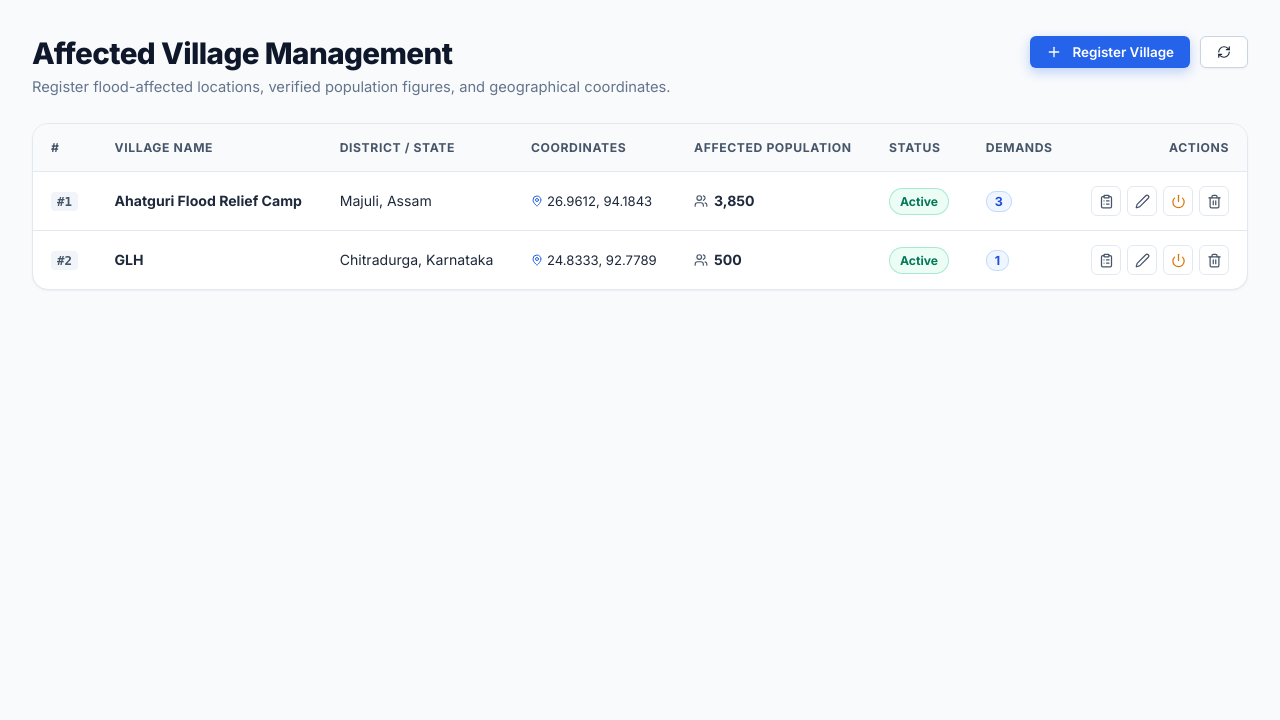
Test: Warehouses and Villages Management › VillagesPage Component › opens Register Village modal when clicking Register Village button
The width and height of the screenshot is (1280, 720).
Expected: the text "Ahatguri Flood Relief Camp" is shown, x1=114 y1=192 x2=302 y2=209
Click the button "Register Village": (1110, 52) x1=1030 y1=36 x2=1190 y2=68
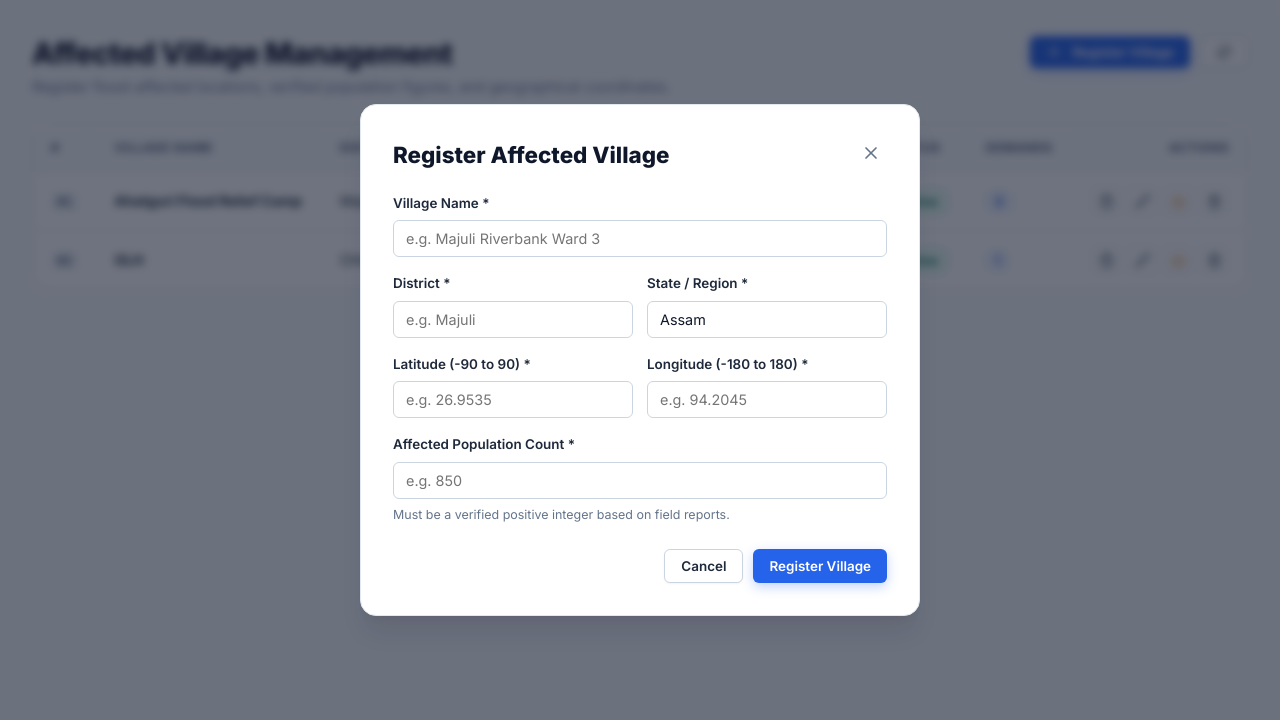
Now the heading "Register Affected Village" is shown, box x1=393 y1=137 x2=670 y2=173
Now the field with placeholder "e.g. Majuli Riverbank Ward 3" is shown, box x1=393 y1=220 x2=887 y2=257
